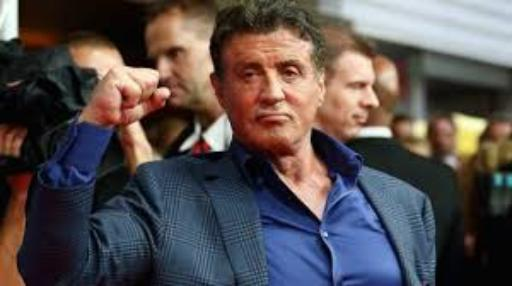left_eye: (283, 69, 305, 80)
left_lip_corner: (286, 113, 295, 122)
right_eye: (241, 73, 263, 83)
right_lip_corner: (254, 113, 267, 123)
